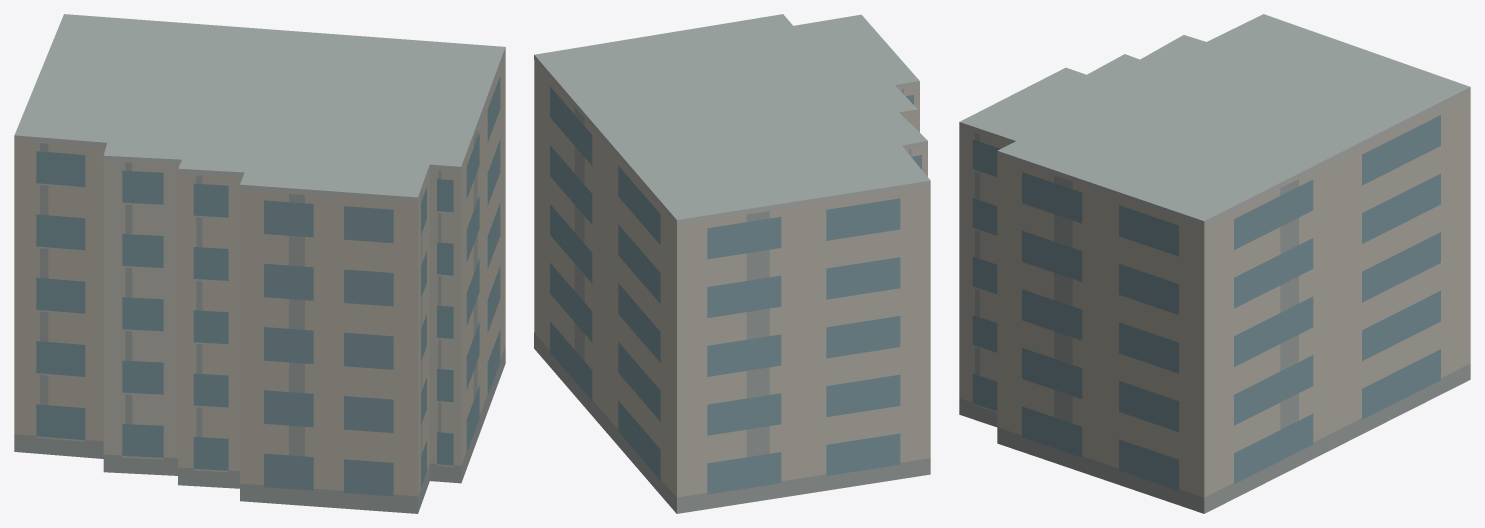
File: survey-upis-32580759.glb
3 renders of one model, left to right at view 1: azimuth 30°, elevation 25°; view 2: azimuth 150°, elevation 25°; view 3: azimuth 270°, elevation 25°, orthographic. The views are drawn at different scales.
Visible parts, largest first — view 1: survey-upis-32580759.tmp; view 2: survey-upis-32580759.tmp; view 3: survey-upis-32580759.tmp.
Part boxes in pixels (<box>): survey-upis-32580759.tmp: <box>14,14,505,513</box>; survey-upis-32580759.tmp: <box>534,14,930,513</box>; survey-upis-32580759.tmp: <box>959,14,1470,513</box>.
Bounding box in the file's own units: 20.35 × 13.4 × 21.22.
